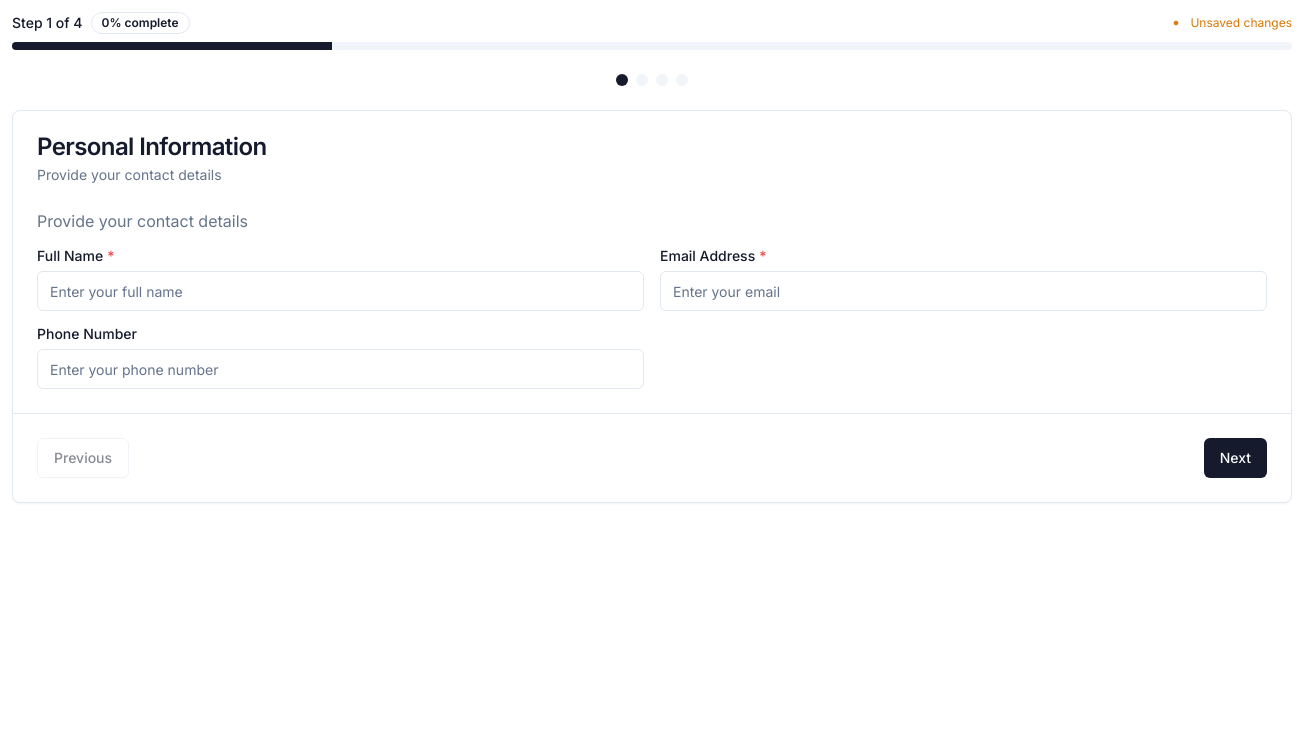
DisclosureForm (Form Renderer) › validation › should validate email format
The width and height of the screenshot is (1304, 732).
Type "John Doe" into the field labelled "Full Name *".
click(340, 291); type("John Doe")  # box [37,271,644,311]
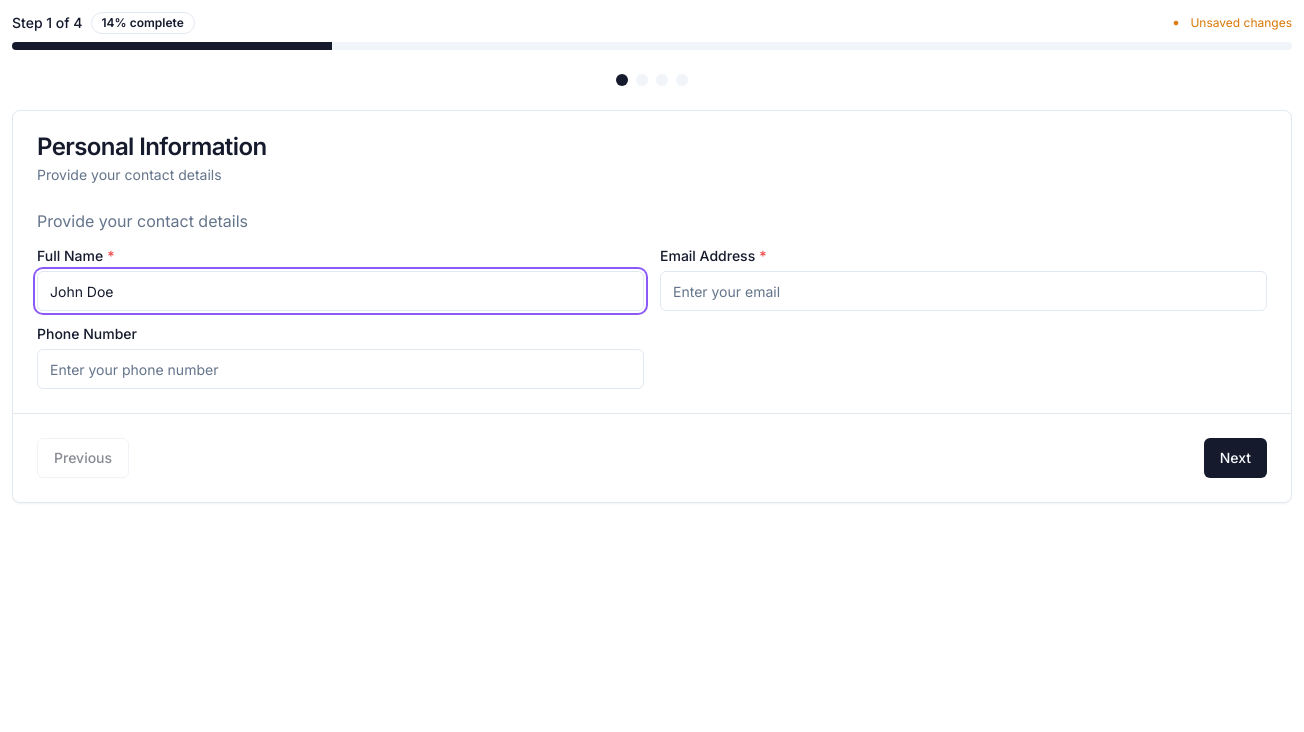
Type "invalid-email" into the field labelled "Email Address *".
click(964, 291); type("invalid-email")  # box [660,271,1267,311]
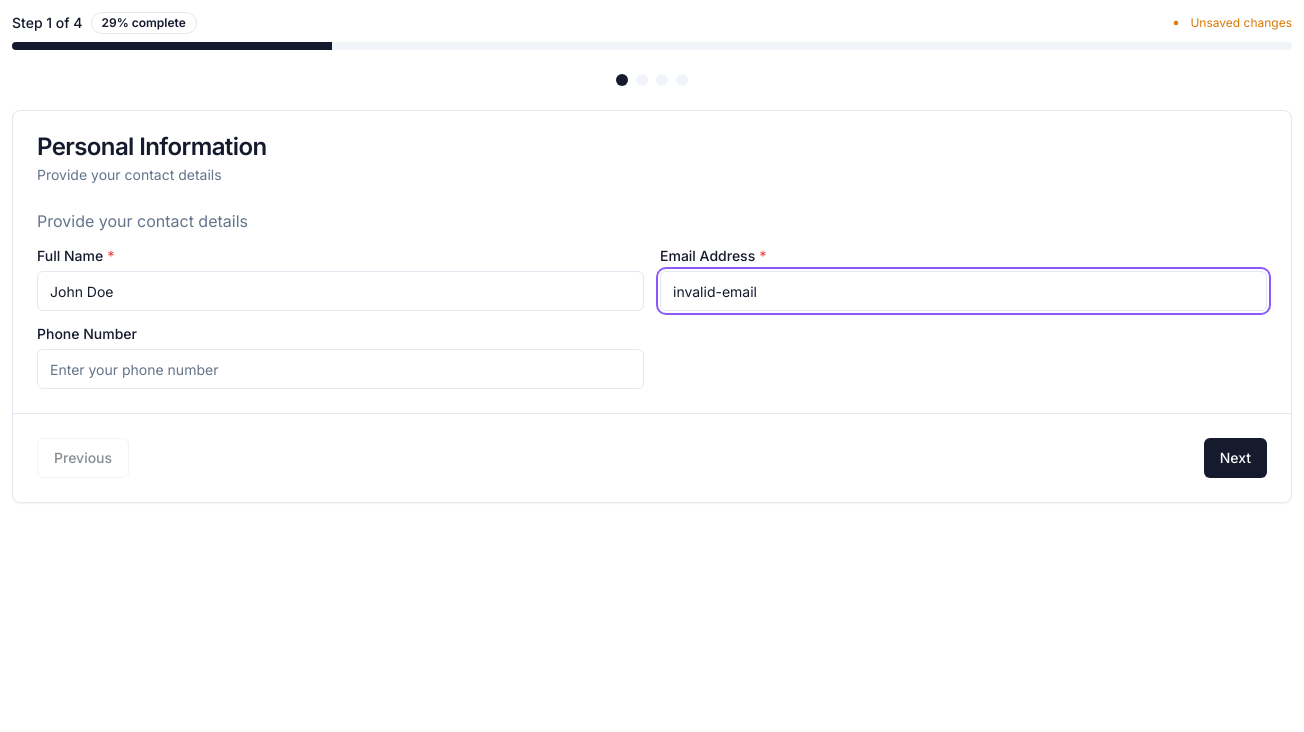
# Try to navigate
Click the button "Next".
click(1235, 458)  # box [1204,438,1267,478]
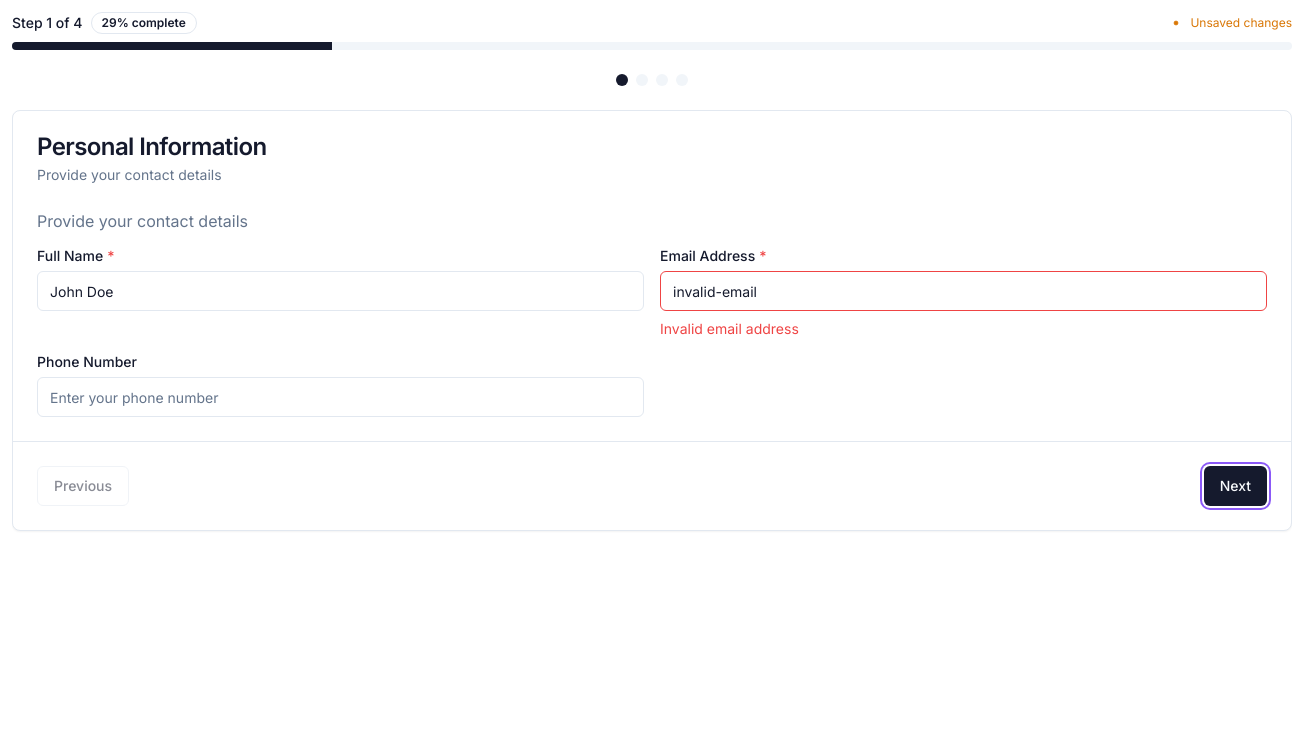
Expected: the text "Invalid email address" is shown, [660,320,799,337]
